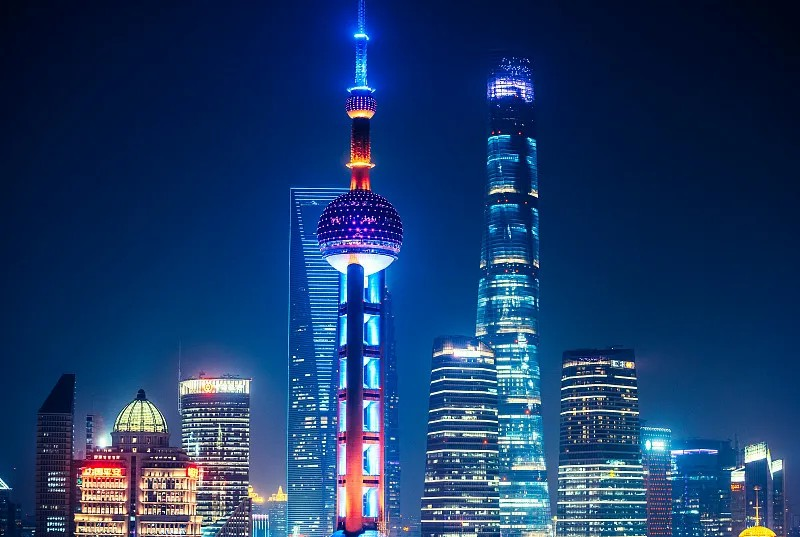Oriental: (317, 1, 403, 537)
